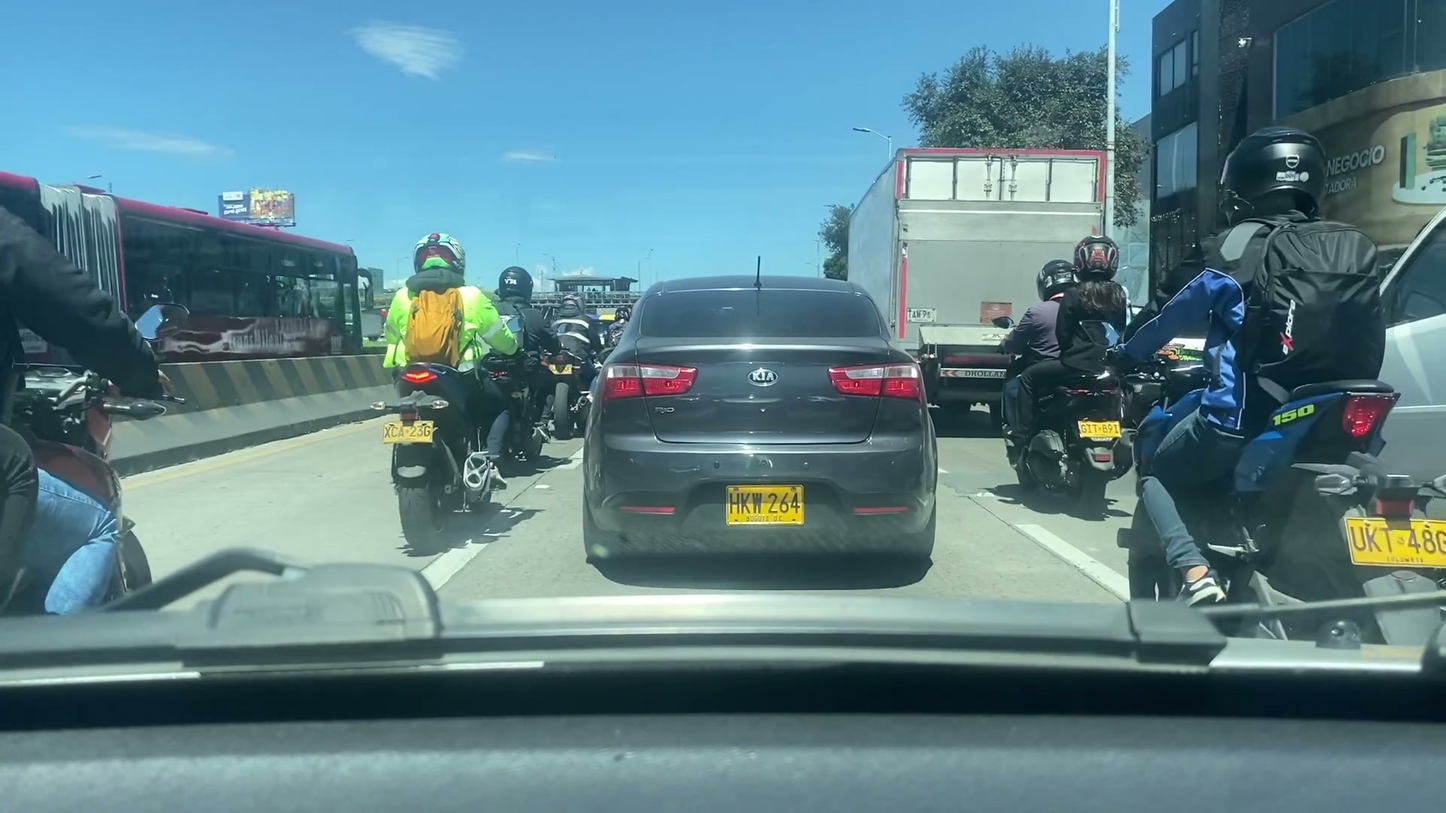bus: (0, 176, 366, 361)
car: (582, 274, 942, 569)
motorcycle: (1105, 355, 1446, 645), (360, 388, 524, 545), (1001, 374, 1142, 508), (548, 346, 594, 437)
person: (1101, 119, 1384, 610), (382, 224, 513, 503), (1018, 236, 1132, 427), (1006, 251, 1079, 456), (487, 262, 554, 440), (543, 291, 597, 412)
truck: (834, 148, 1115, 422)
